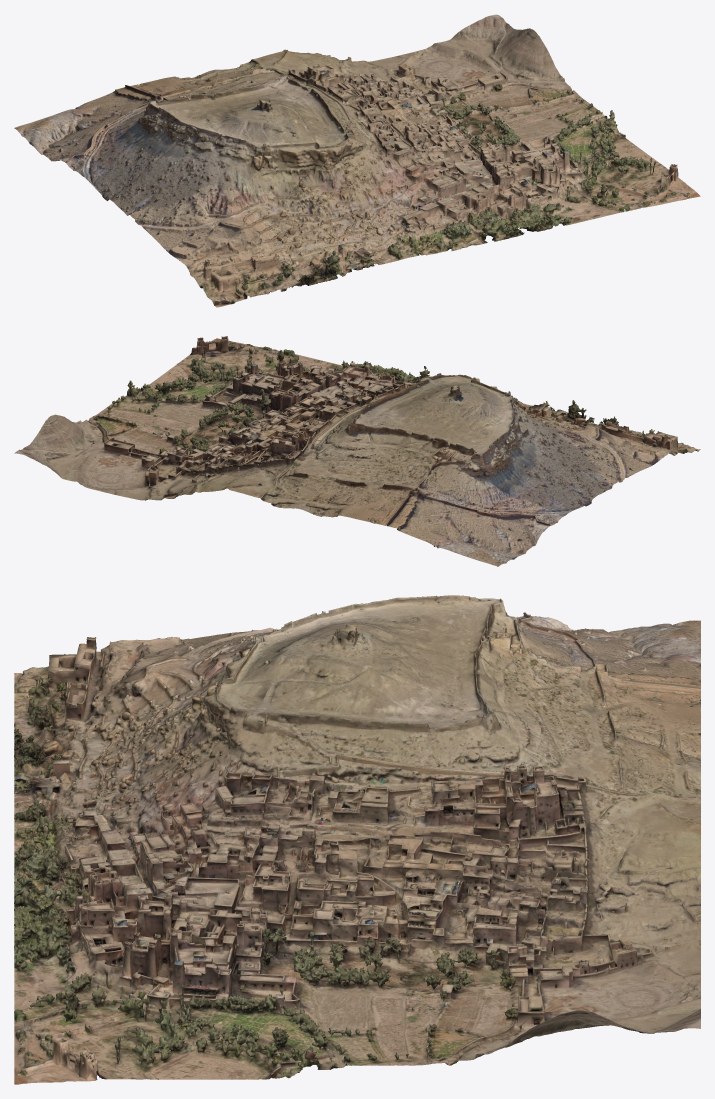
3 renders of one model, top to bottom at view 1: azimuth 30°, elevation 25°; view 2: azimuth 150°, elevation 25°; view 3: azimuth 270°, elevation 25°, orthographic. The views are drawn at different scales.
Visible parts, largest first — view 1: MAR_001_M2_KsarDetail; view 2: MAR_001_M2_KsarDetail; view 3: MAR_001_M2_KsarDetail.
Boxes of the visible parts, x1,y1,x2,y2 form: MAR_001_M2_KsarDetail: (14,14,700,307); MAR_001_M2_KsarDetail: (14,336,700,566); MAR_001_M2_KsarDetail: (14,595,700,1084).
Bounding box in the file's own units: 352 × 73.44 × 255.
Materials: 1 (1 with a texture image).
